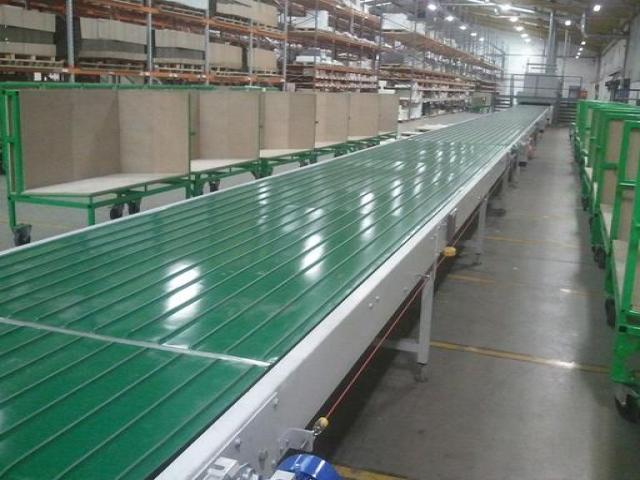conveyor: (0, 99, 555, 479)
